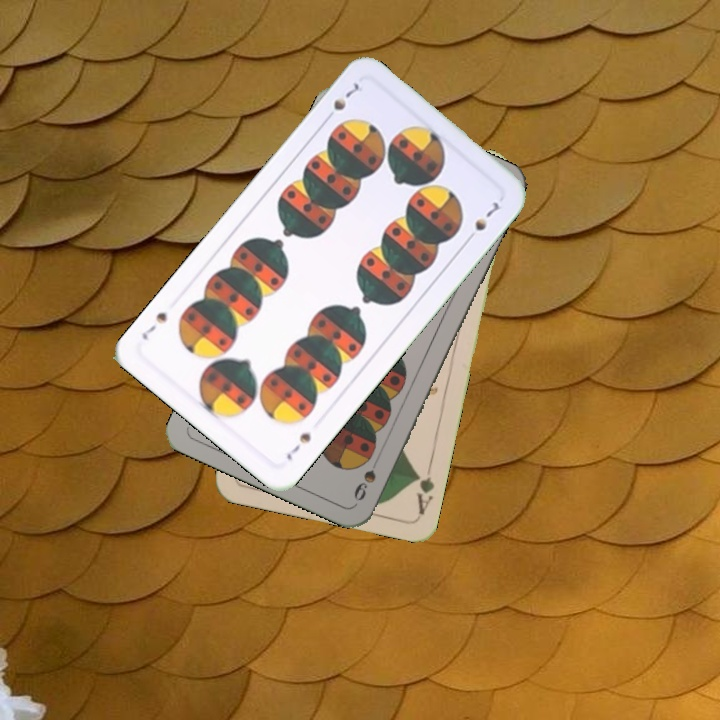GA: (411, 458, 437, 518)
S7: (320, 78, 362, 125), (282, 428, 314, 463)
S9: (349, 449, 384, 504)
